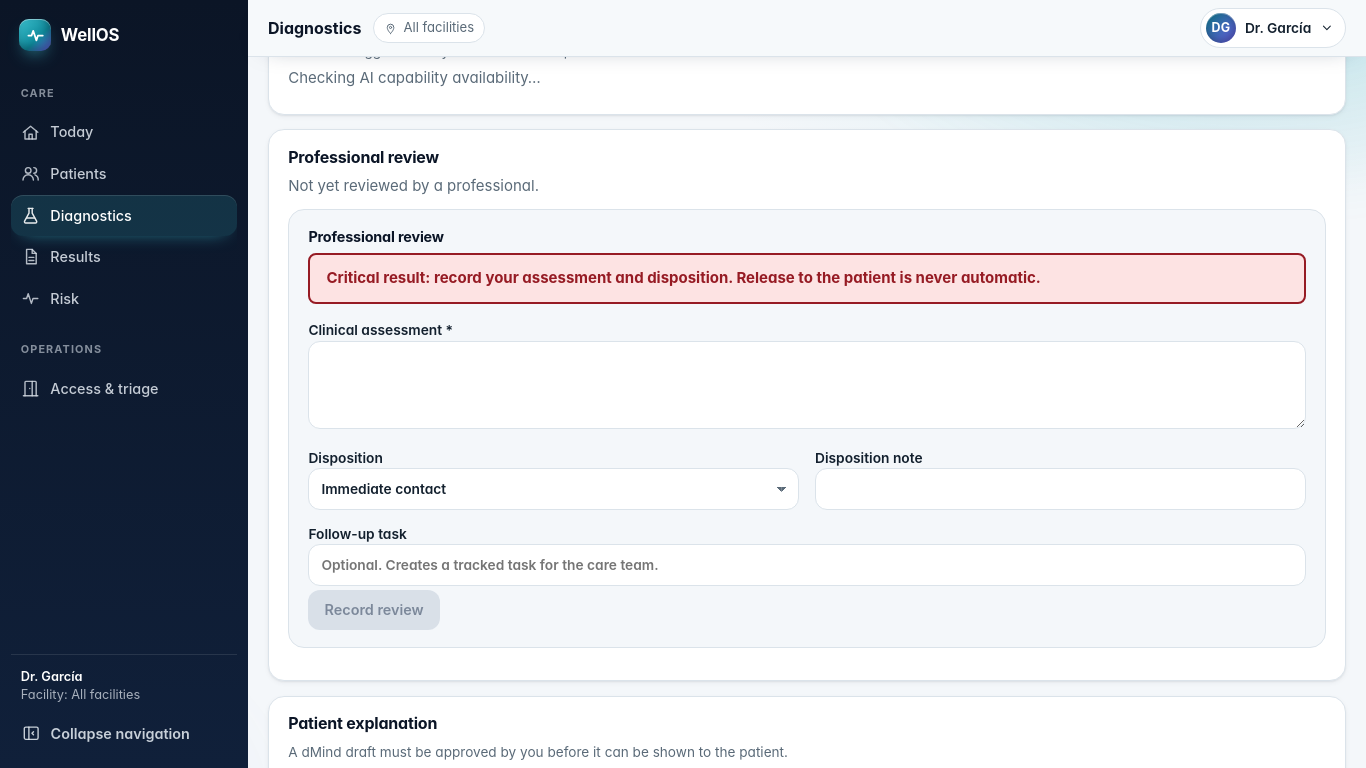
Test case: diagnostic report review and release › binds the review to the exact report version
The image size is (1366, 768).
Later steps or results of the test are not shown.
(page scrolled)
Expected: the form with test id "dx-review-form" is shown, [288,210,1326,648]
Expected: the button with test id "dx-submit-review" is disabled, [308,590,440,630]
Step 1. Type "Hyperkalaemia confirmed on repeat; ECG unremarkable." into the text box with test id "dx-assessment" → (807, 384), box [308,340,1306,428]
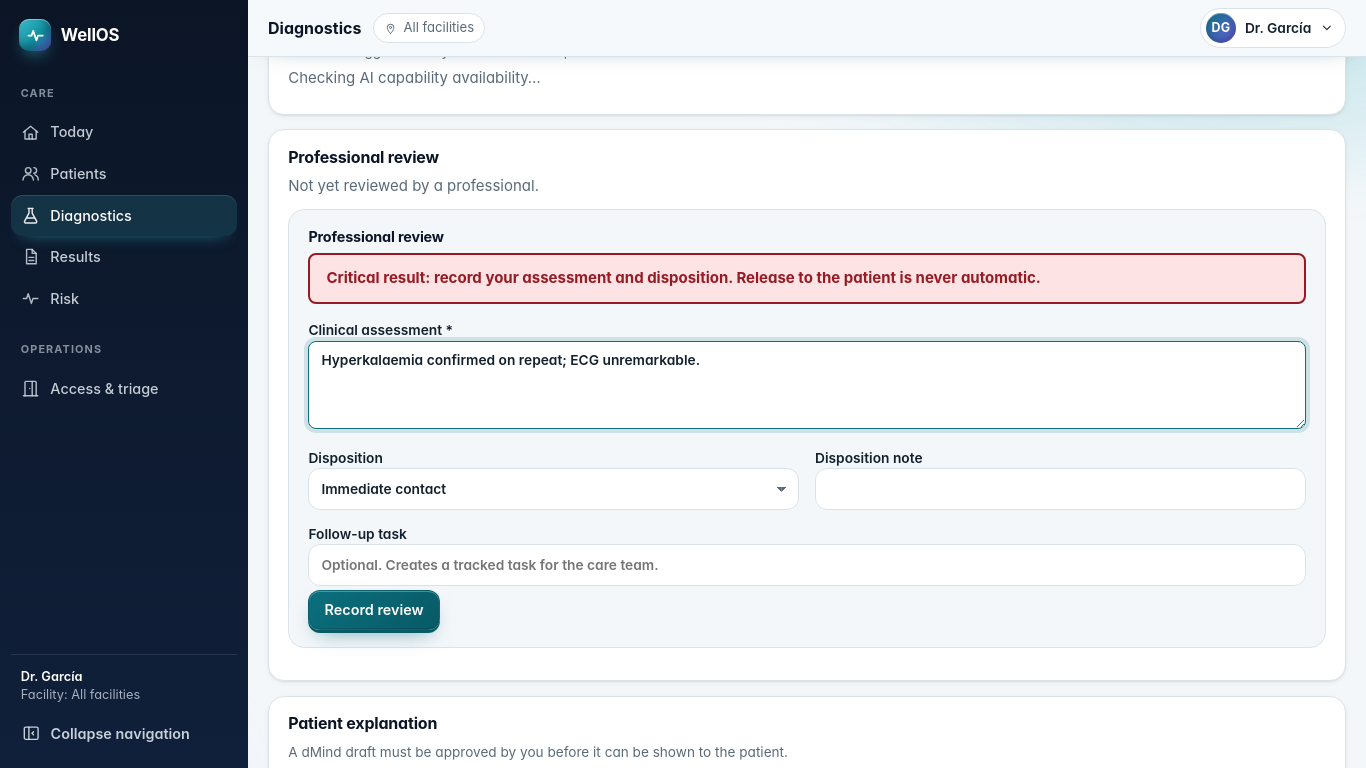
Step 2. Select "Urgent follow-up" in the dropdown with test id "dx-disposition" → (554, 489), box [308,468,799,510]
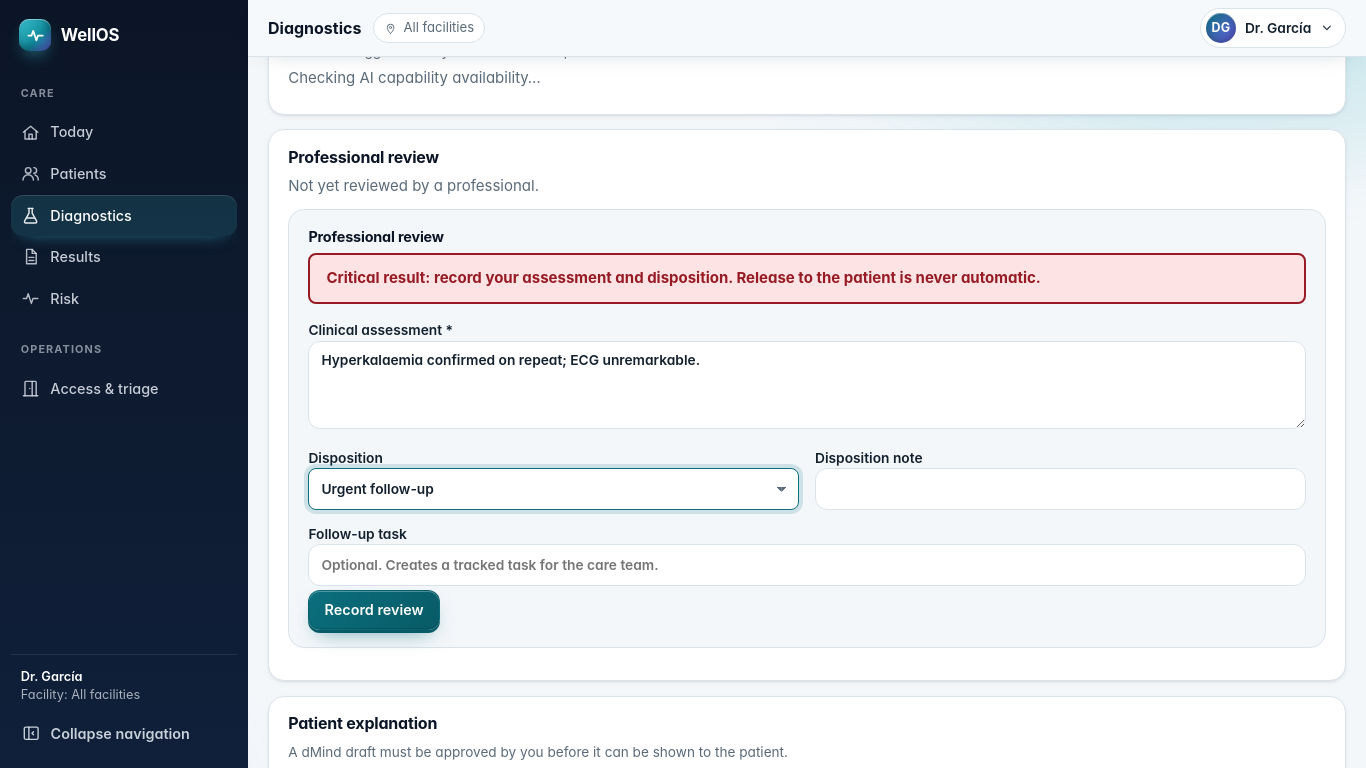
Result: the button with test id "dx-submit-review" is enabled at [308,590,440,630]
